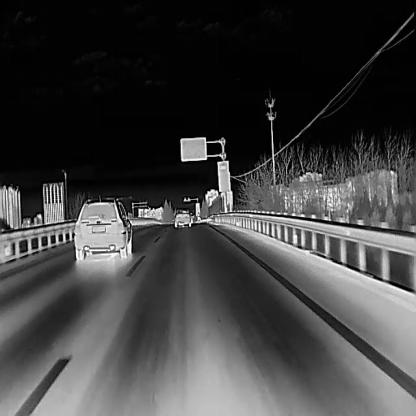car: (72, 197, 130, 259), (172, 209, 192, 227)
